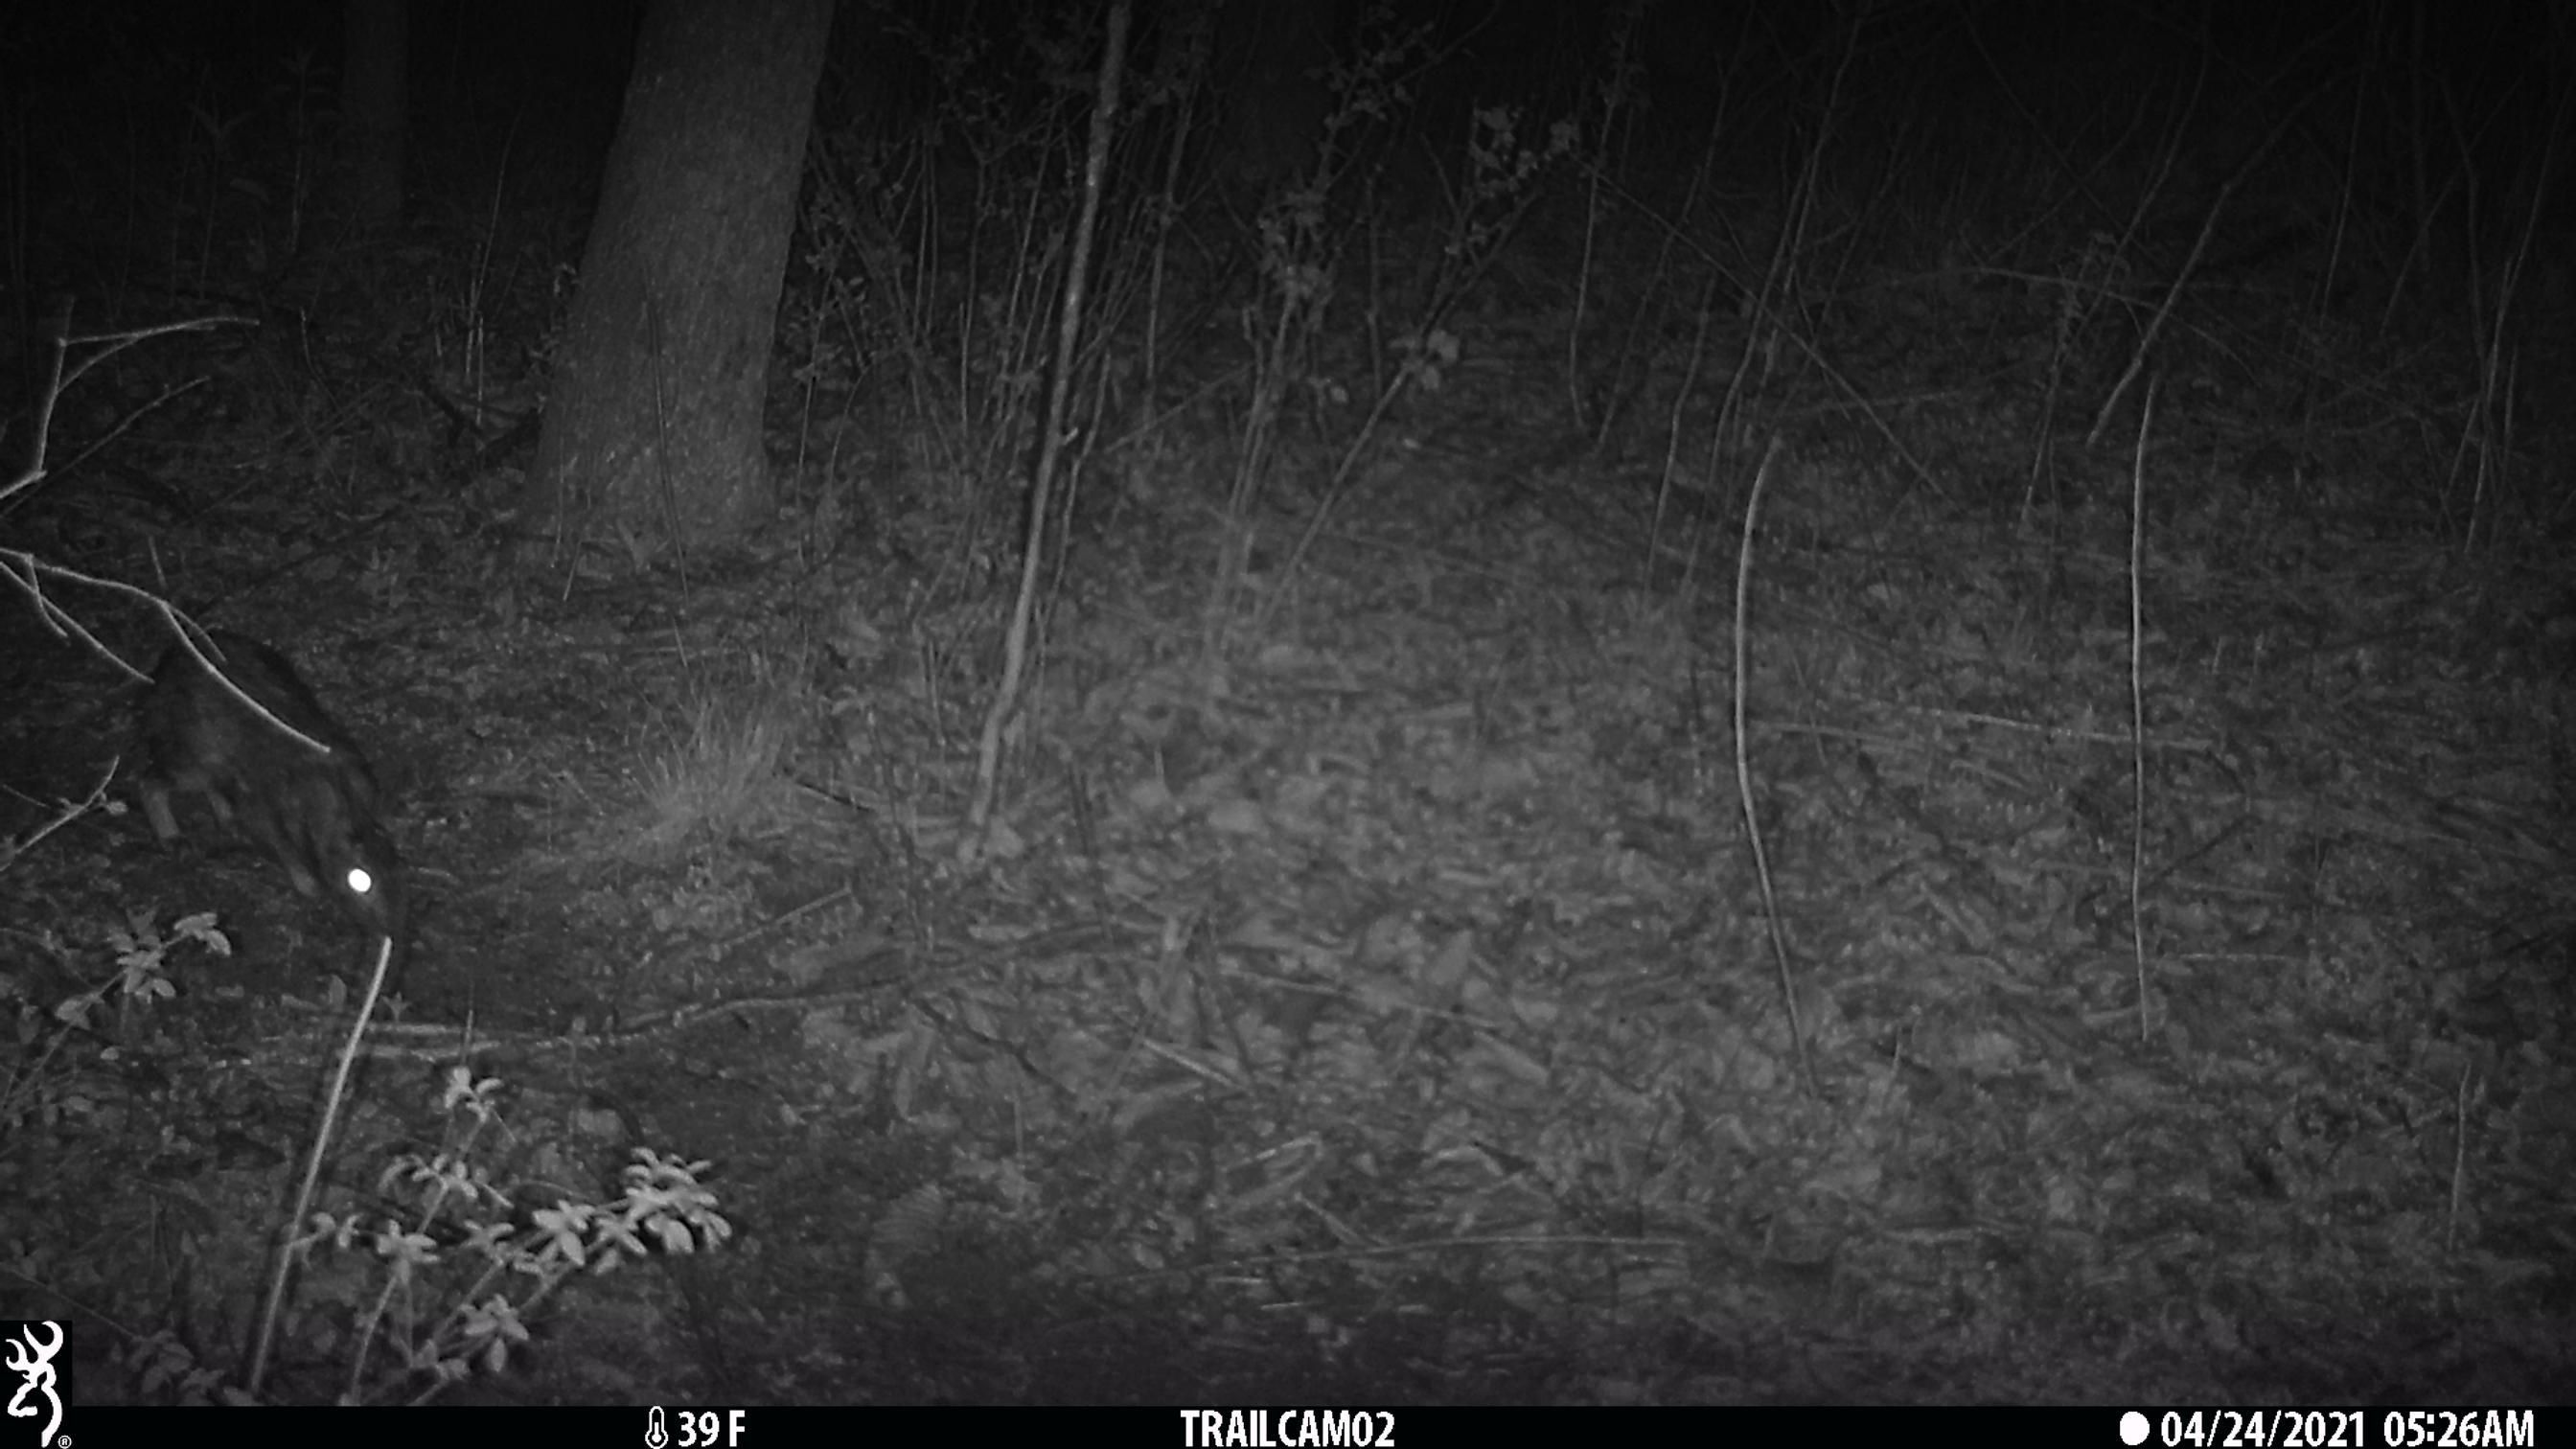Rabbit: (120, 635, 412, 950)
